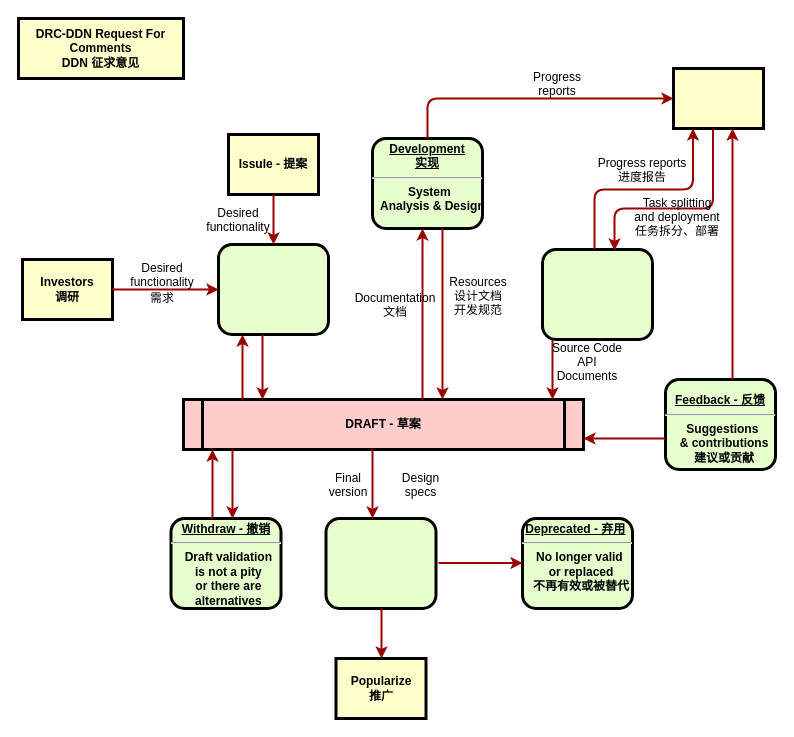
This 794x737 diagram has some shape labels left out. The box of each missing label's shape, as (x1, y1, x2, y2) in pixels:
Core member Complete solution detail 完整的解决方案: (540, 248, 654, 340)
Final - 决案 The draft was verified and approved by the community: (324, 516, 437, 610)
Management 开发管理: (672, 66, 764, 130)
Review - 审议 Community discussion review 社区讨论审核: (216, 242, 330, 336)
